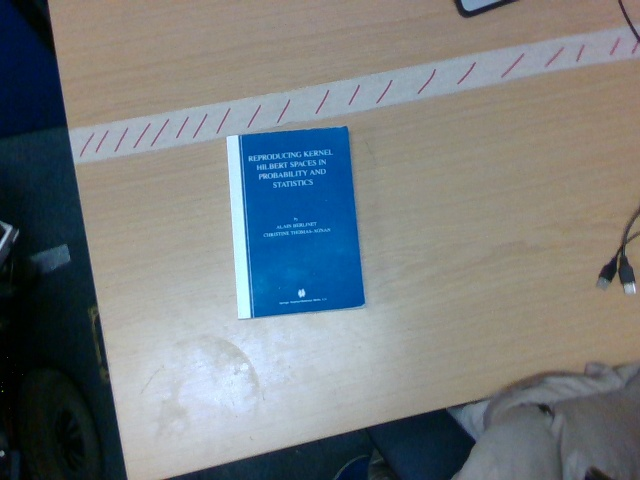book: (226, 125, 366, 320)
